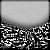node: (1, 1, 50, 28)
